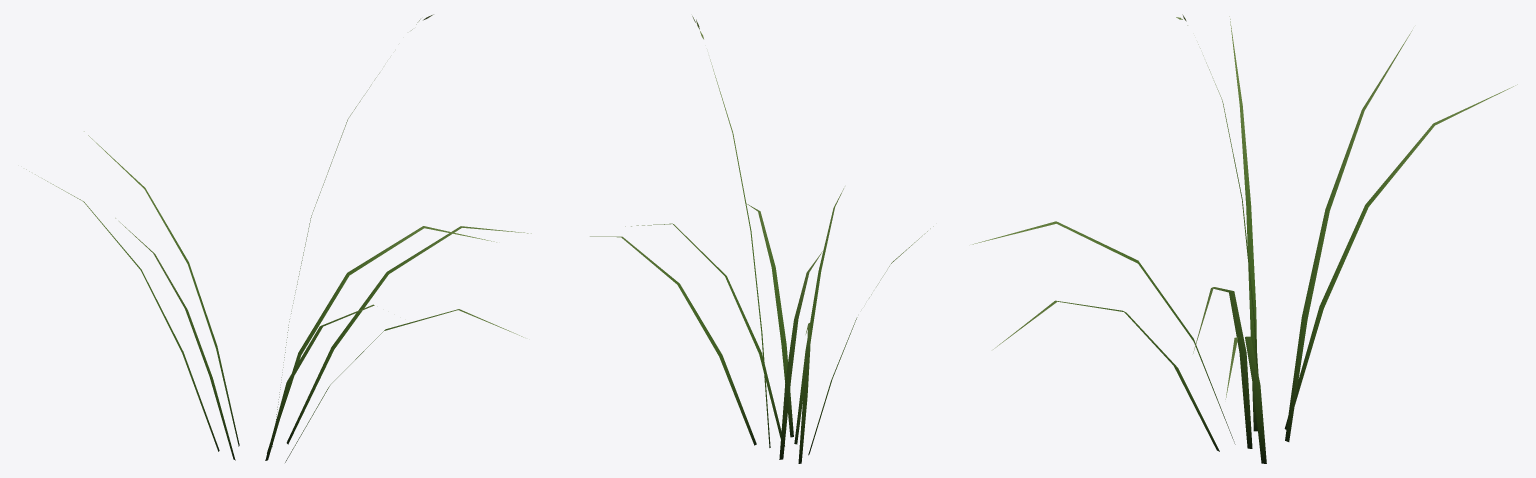
File: b612_veg_VL_Grass_Tall_B_1.glb
3 renders of one model, left to right at view 1: azimuth 30°, elevation 25°; view 2: azimuth 150°, elevation 25°; view 3: azimuth 270°, elevation 25°, orthographic. The views are drawn at different scales.
Visible parts, largest first — view 1: Grass_Tall_B_LOD1; view 2: Grass_Tall_B_LOD1; view 3: Grass_Tall_B_LOD1.
Boxes of the visible parts, <box> form: Grass_Tall_B_LOD1: <box>26,14,531,462</box>; Grass_Tall_B_LOD1: <box>590,16,933,463</box>; Grass_Tall_B_LOD1: <box>972,14,1517,463</box>.
Bounding box in the file's own units: 0.8842 × 0.8619 × 0.8509.
